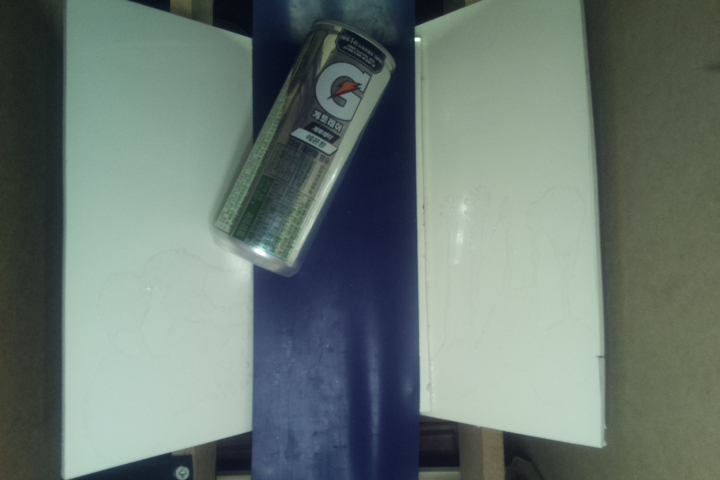can: (214, 21, 397, 275)
